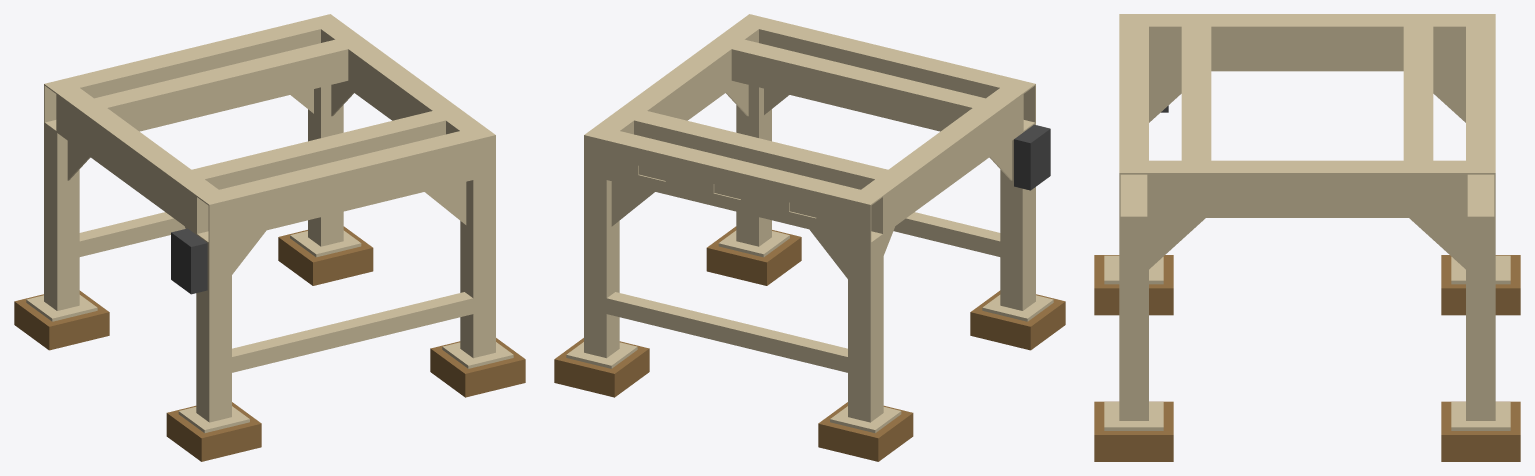
Rendered from Mixer_Stand.glb.
3 renders of one model, left to right at view 1: azimuth 30°, elevation 25°; view 2: azimuth 150°, elevation 25°; view 3: azimuth 270°, elevation 25°, orthographic. The views are drawn at different scales.
Parts seen in each view (by area): view 1: top_beam_x_-1_4cdf9e, cross_beam_1_d8d4ef, top_beam_y_-1_8b171d, leg_1_7b8df8, leg_3_29c298, lower_tie_-1_0df457, top_beam_x_-1_b9ab2e, top_beam_x_1_dfafe2, leg_2_ebace1, cross_beam_0_645cb5, top_beam_x_1_c8c4fd, cross_beam_1_0a2119 (+32 smaller); view 2: top_beam_x_1_163b77, cross_beam_0_2ff88c, top_beam_y_-1_8b171d, leg_0_49eaf6, leg_2_49d0e4, lower_tie_1_78c929, top_beam_x_1_dfafe2, top_beam_x_-1_b9ab2e, cross_beam_1_82281f, top_beam_x_-1_e6e2e0, cross_beam_0_0ddf4f, cross_beam_1_0a2119 (+32 smaller); view 3: top_beam_y_1_eb9f43, top_beam_y_-1_908b81, leg_1_f94fc6, leg_0_3b250f, top_beam_x_-1_b9ab2e, top_beam_x_1_dfafe2, cross_beam_1_0a2119, cross_beam_0_0ddf4f, top_beam_y_-1, top_beam_y_1, timber_block_1_22ba73, timber_block_0_59659c (+16 smaller).
Boxes of the visible parts, x1,y1,x2,y2 form: top_beam_x_-1_4cdf9e: (209, 135, 495, 244); cross_beam_1_d8d4ef: (107, 49, 348, 131); top_beam_y_-1_8b171d: (57, 94, 196, 234); leg_1_7b8df8: (473, 174, 495, 357); leg_3_29c298: (209, 239, 231, 422); lower_tie_-1_0df457: (232, 298, 473, 372); top_beam_x_-1_b9ab2e: (197, 125, 495, 204); top_beam_x_1_dfafe2: (44, 14, 343, 93); leg_2_ebace1: (57, 133, 79, 310); cross_beam_0_645cb5: (205, 120, 445, 189); top_beam_x_1_c8c4fd: (80, 29, 320, 98); cross_beam_1_0a2119: (94, 39, 347, 107); top_beam_x_1_163b77: (584, 135, 870, 244); cross_beam_0_2ff88c: (731, 49, 972, 131); top_beam_y_-1_8b171d: (883, 94, 1022, 234); leg_0_49eaf6: (584, 174, 606, 357); leg_2_49d0e4: (848, 239, 870, 422); lower_tie_1_78c929: (606, 298, 847, 372); top_beam_x_1_dfafe2: (584, 125, 882, 204); top_beam_x_-1_b9ab2e: (736, 14, 1035, 93); cross_beam_1_82281f: (634, 120, 874, 189); top_beam_x_-1_e6e2e0: (759, 29, 999, 98); cross_beam_0_0ddf4f: (732, 39, 985, 107); cross_beam_1_0a2119: (634, 111, 887, 179); top_beam_y_1_eb9f43: (1149, 173, 1465, 217); top_beam_y_-1_908b81: (1149, 26, 1465, 71); leg_1_f94fc6: (1119, 218, 1148, 420); leg_0_3b250f: (1466, 218, 1495, 420); top_beam_x_-1_b9ab2e: (1119, 14, 1148, 172); top_beam_x_1_dfafe2: (1466, 14, 1495, 172); cross_beam_1_0a2119: (1403, 26, 1433, 160); cross_beam_0_0ddf4f: (1181, 26, 1211, 160); top_beam_y_-1: (1149, 14, 1465, 26); top_beam_y_1: (1149, 160, 1465, 172); timber_block_1_22ba73: (1094, 435, 1173, 461); timber_block_0_59659c: (1441, 435, 1520, 461).
Bounding box in the file's own units: 2.15 × 1.55 × 2.15.
